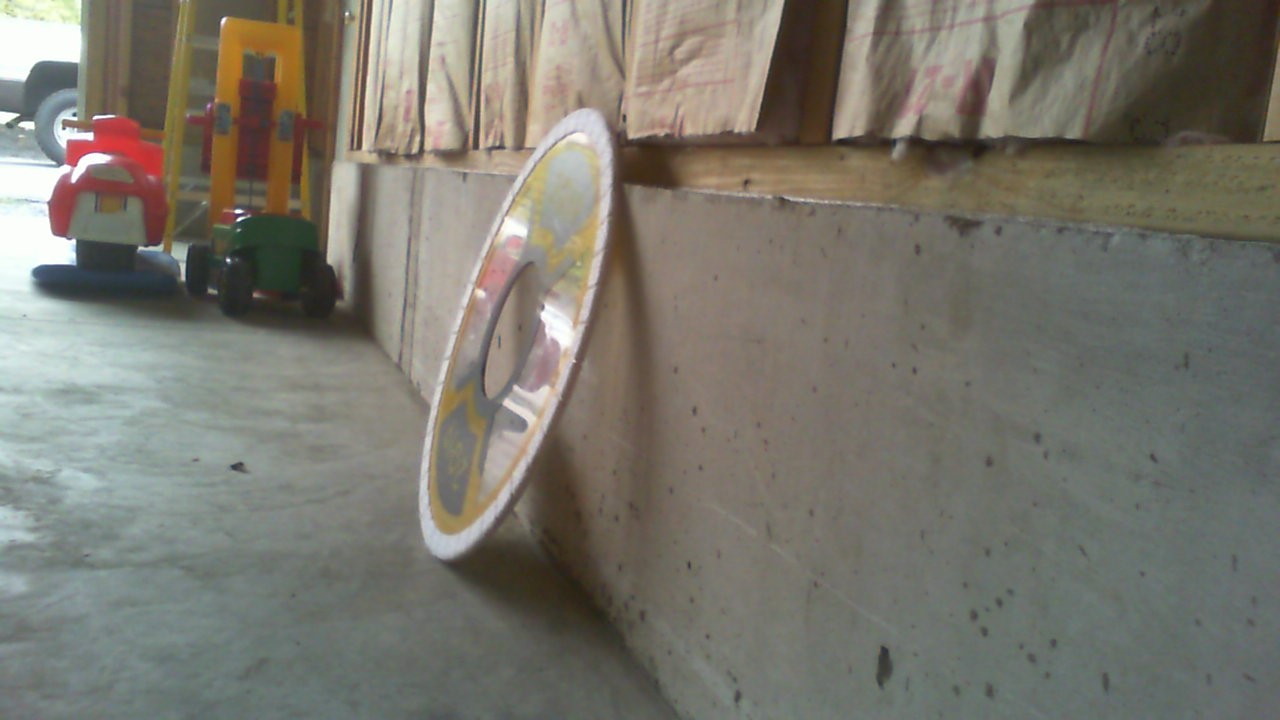Hatch: (417, 105, 617, 563)
